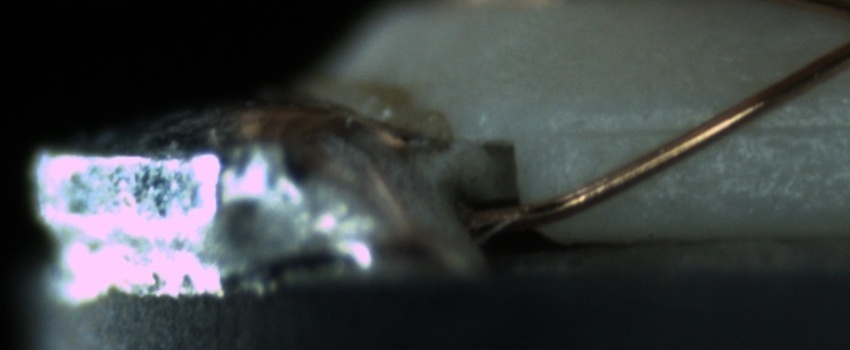DL: (561, 96, 844, 159)
